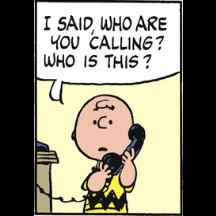charlie: (70, 94, 146, 216)
